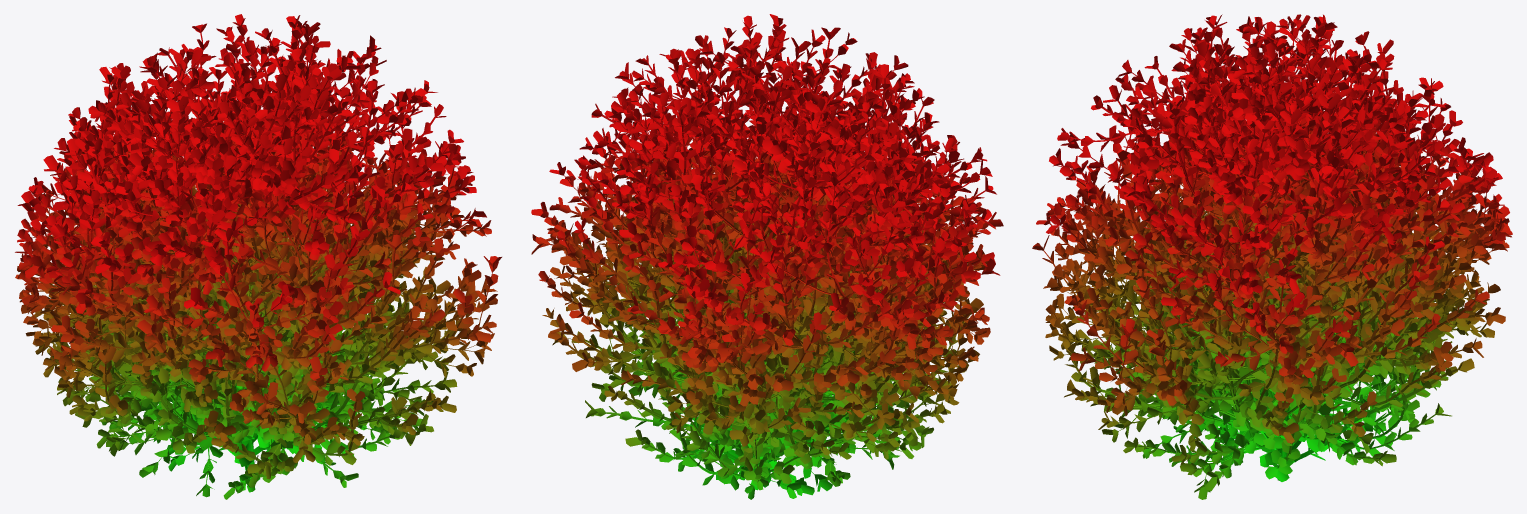
Rendered from Var4_LOD3.fbx.
3 views of the same model, side by side, from view 1: azimuth 30°, elevation 25°; view 2: azimuth 150°, elevation 25°; view 3: azimuth 270°, elevation 25° (orthographic).
Parts seen in each view (by area): view 1: _m1pf_Var4_LOD3; view 2: _m1pf_Var4_LOD3; view 3: _m1pf_Var4_LOD3.
Part boxes in pixels (box(x1,y1,x2,y2)): _m1pf_Var4_LOD3: box(15, 14, 501, 499); _m1pf_Var4_LOD3: box(531, 14, 1003, 499); _m1pf_Var4_LOD3: box(1032, 14, 1512, 499).
Size of the model in its own units: 78.62 by 79.16 by 76.41.
